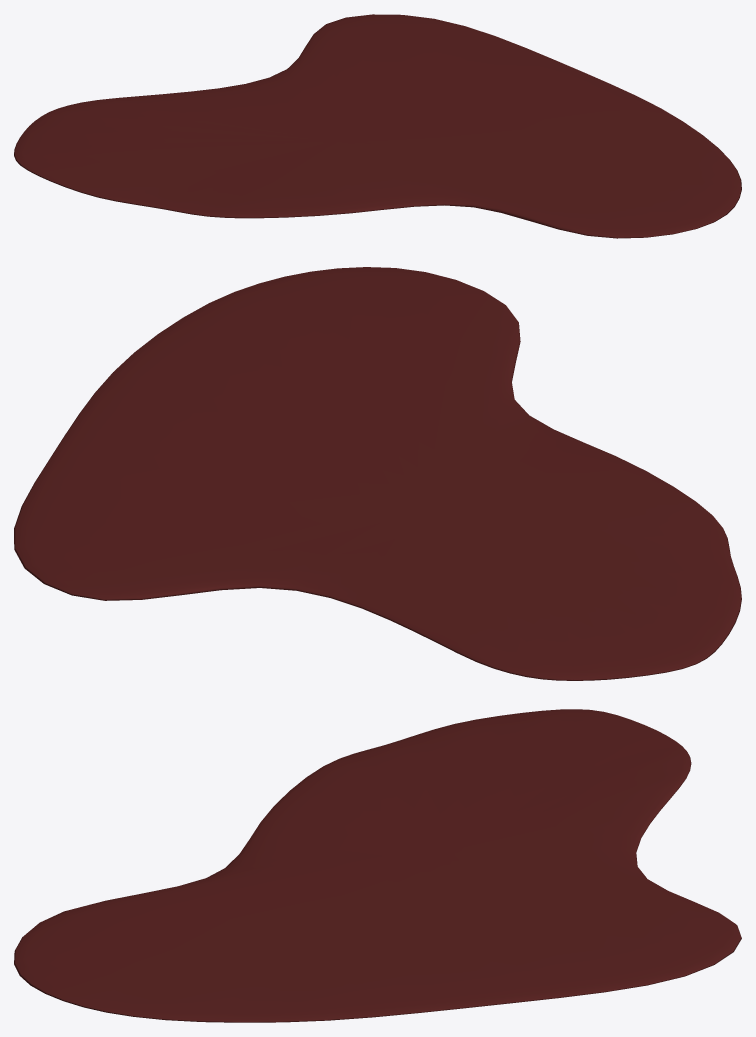
File: blood_2.fbx
3 views of the same model, one above another, from view 1: azimuth 30°, elevation 25°; view 2: azimuth 150°, elevation 25°; view 3: azimuth 270°, elevation 25° (orthographic). The views are drawn at different scales.
Visible parts, largest first — view 1: Cylinder.001; view 2: Cylinder.001; view 3: Cylinder.001.
Part boxes in pixels (x1,y1,x2,y2): Cylinder.001: [14, 14, 741, 238]; Cylinder.001: [14, 267, 741, 680]; Cylinder.001: [14, 709, 741, 1022].
Bounding box in the file's own units: 102 × 1.32 × 99.62.
